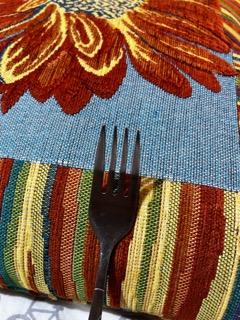fork: (86, 122, 142, 320)
